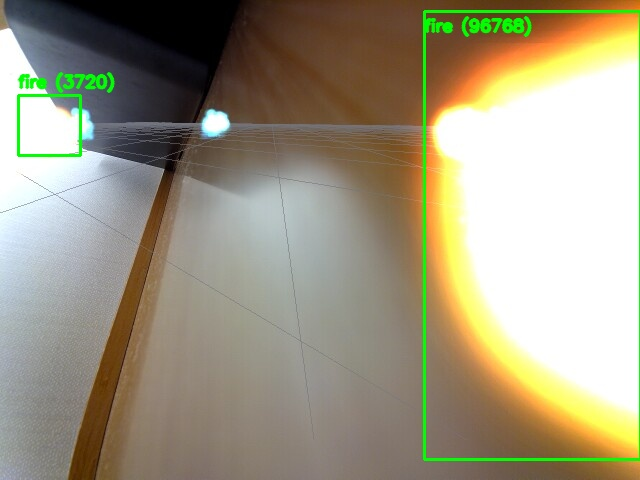fire: (424, 11, 640, 459), (18, 95, 80, 155)
